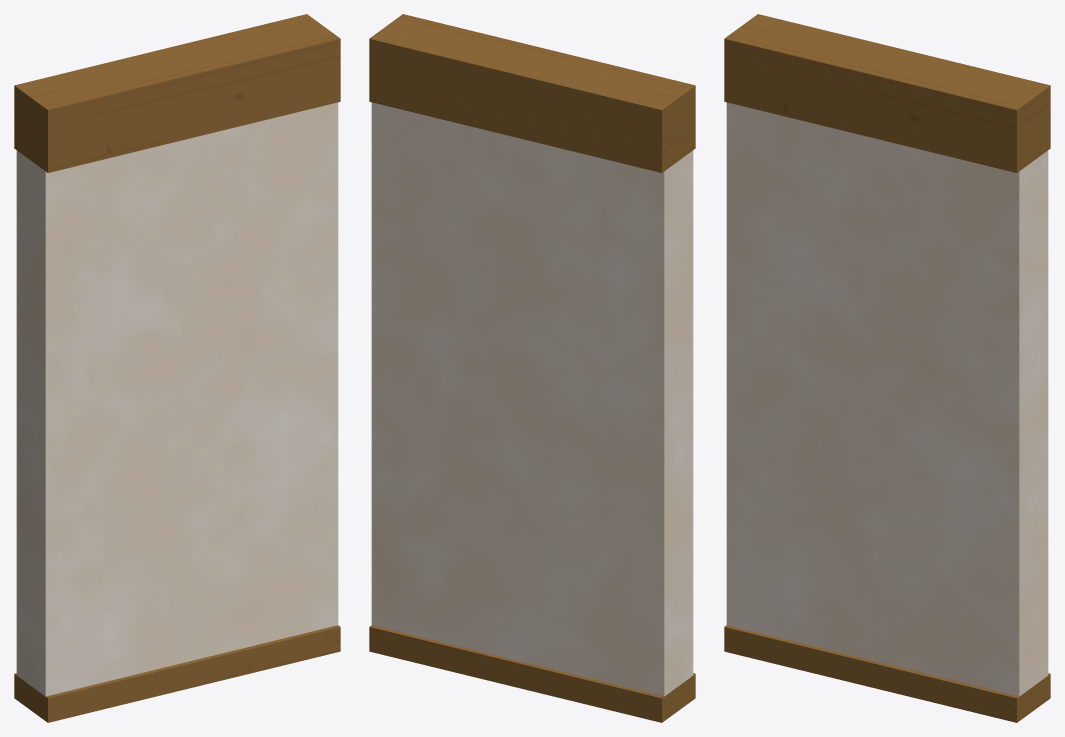
The model's file is wall.fbx.
The picture shows the model from 3 angles, left to right: view 1: azimuth 30°, elevation 25°; view 2: azimuth 150°, elevation 25°; view 3: azimuth 330°, elevation 25°; orthographic projection.
Visible parts, largest first — view 1: wall01; view 2: wall01; view 3: wall01.
Boxes of the visible parts, left/top/right/bottom form: wall01: left=14, top=14, right=340, bottom=722; wall01: left=369, top=14, right=695, bottom=722; wall01: left=724, top=14, right=1050, bottom=722.
Size of the model in its own units: 100 by 200 by 20.
